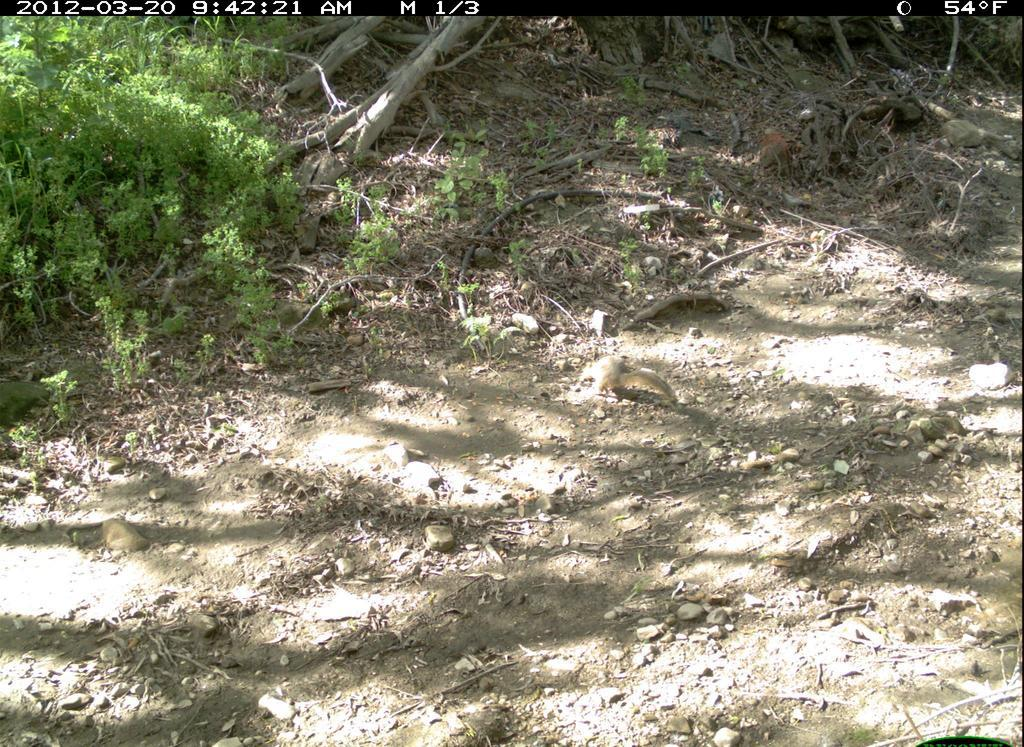squirrel: (578, 354, 690, 413)
